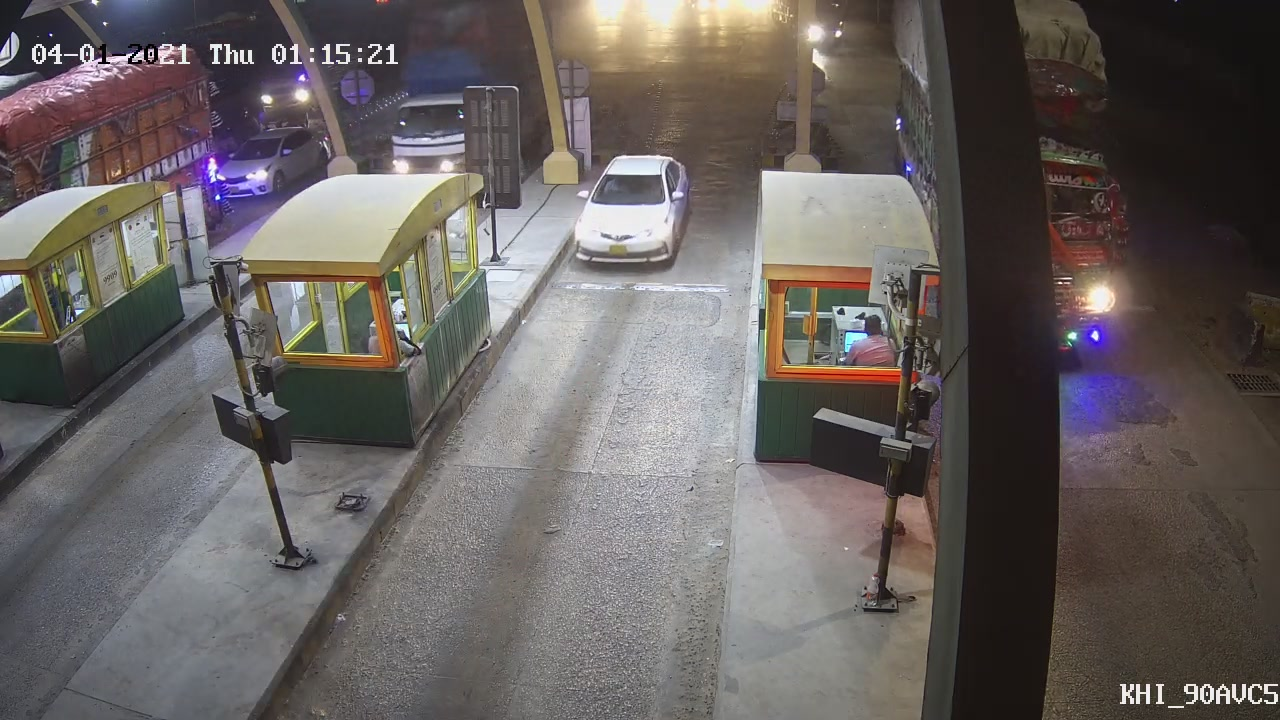F1: (556, 149, 696, 287)
